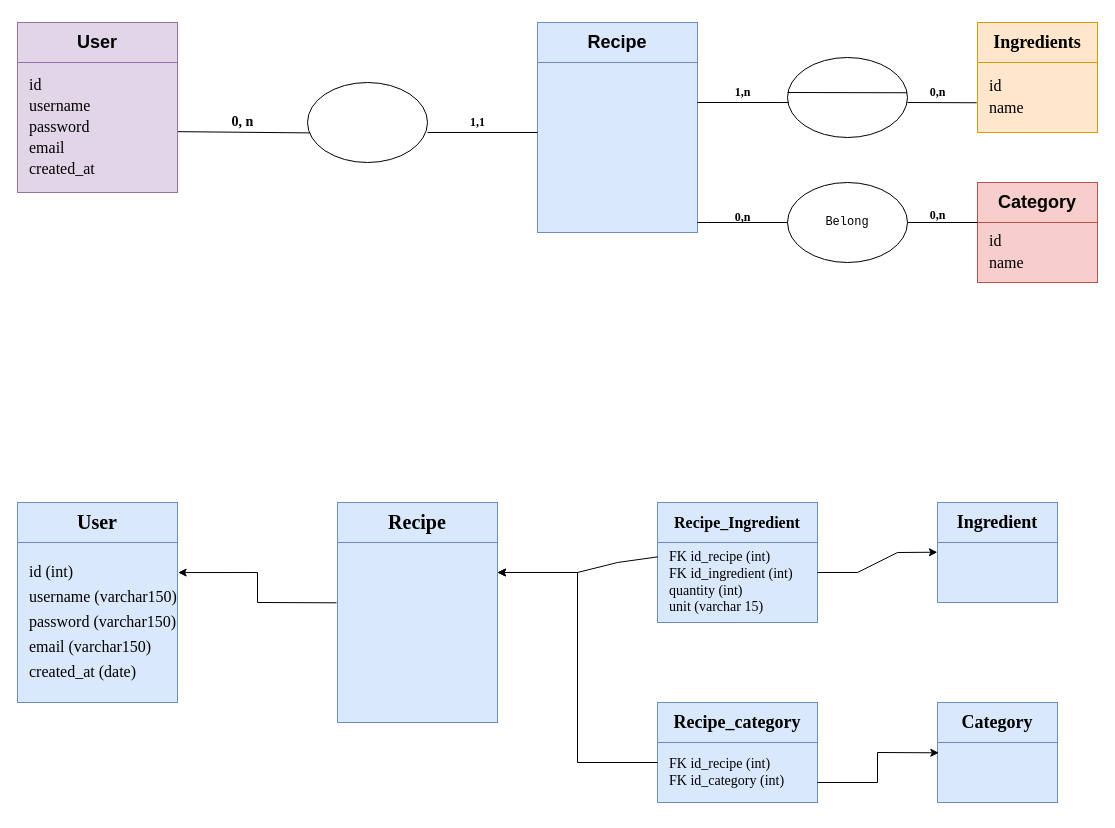
Some shapes in this 1115 by 828 pixel diagram are drawn without their labels. Each missing label, with the box of its shape:
Create: (306, 82, 428, 162)
id (int) FK id_user (int) name (varchar 150) img (varchar150) created_at (date): (336, 542, 498, 722)
id (int) name (varchar 100) slug (varchar 100): (936, 542, 1058, 602)
id (int) name (varchar 50) slug (varchar 50): (936, 742, 1058, 802)
id name img author created_at: (536, 62, 698, 232)
Include Quantity Unit: (786, 56, 908, 138)
